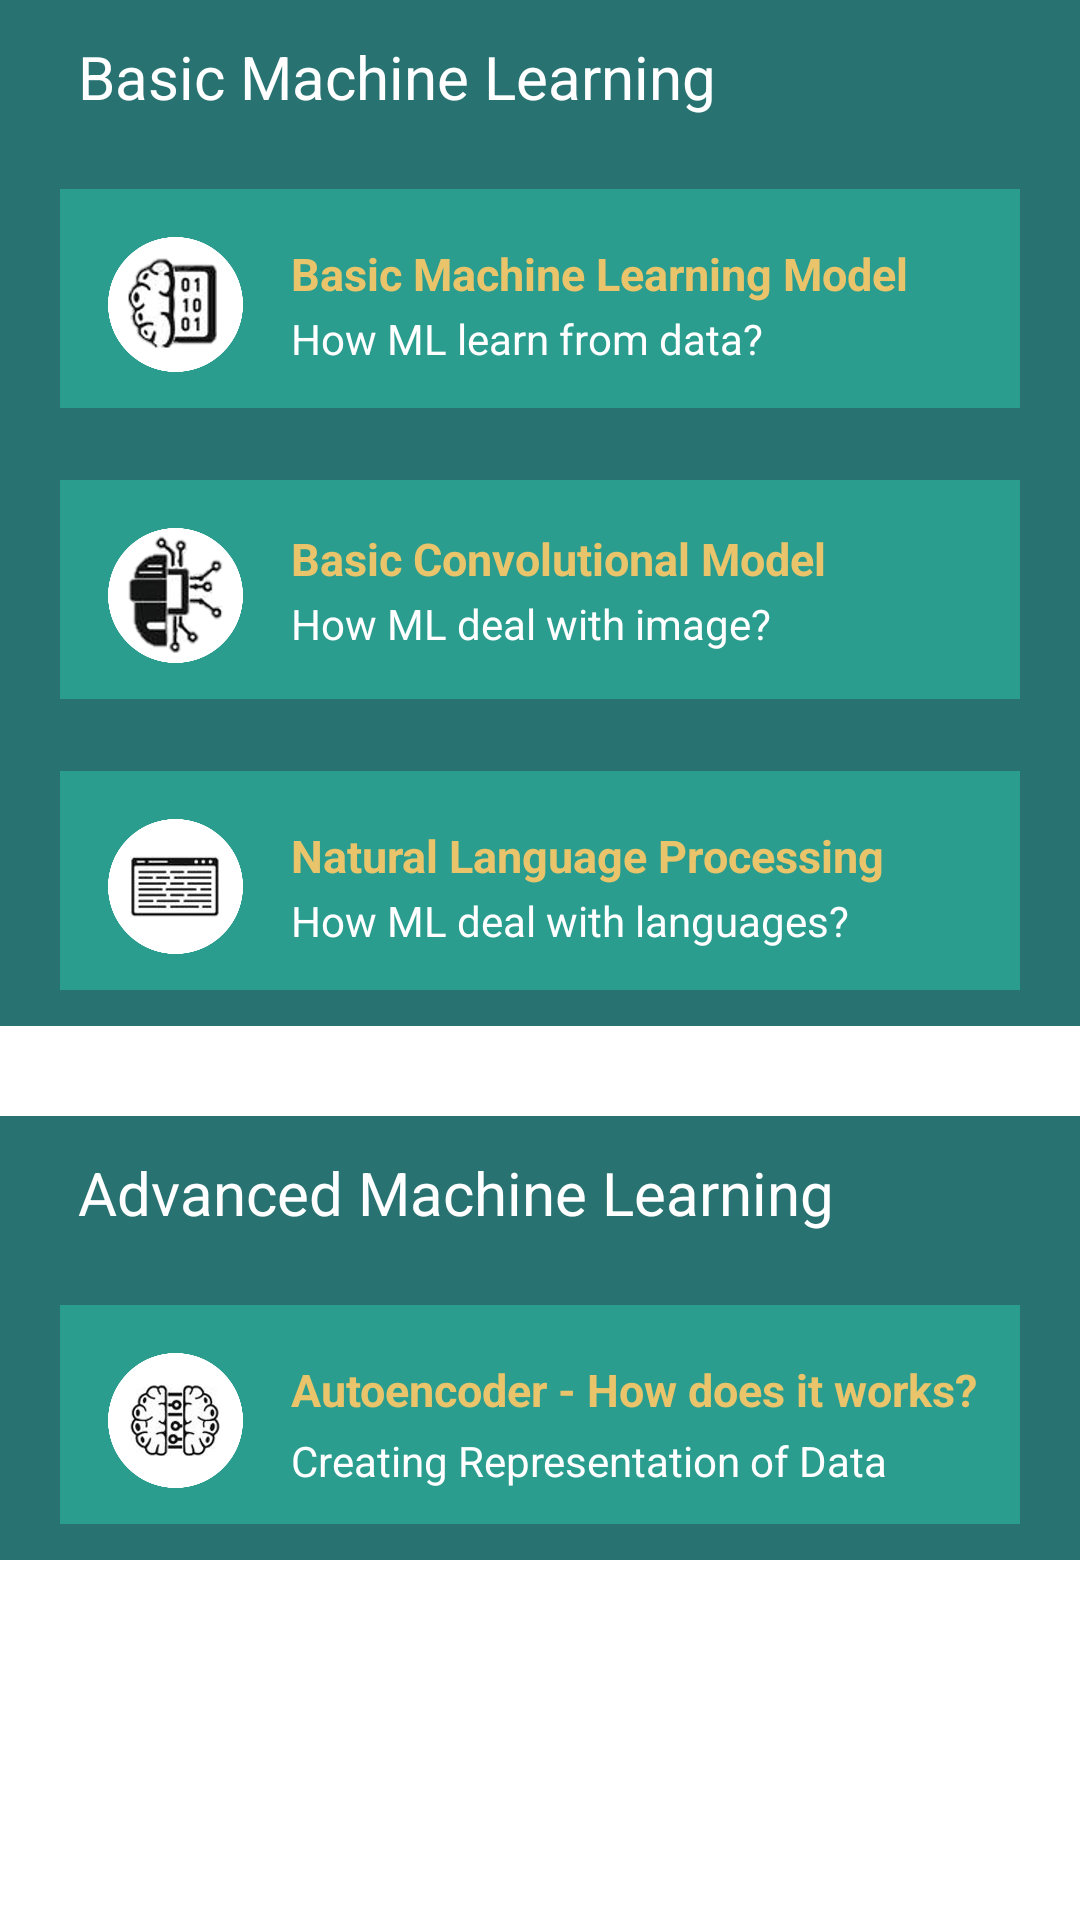

Icons on this 1080px×1920px Android screen, each with the point to tap as point (x, y):
basic autoencoder: point (175, 1420)
basic convolutional network: point (175, 595)
basic ml: point (175, 304)
